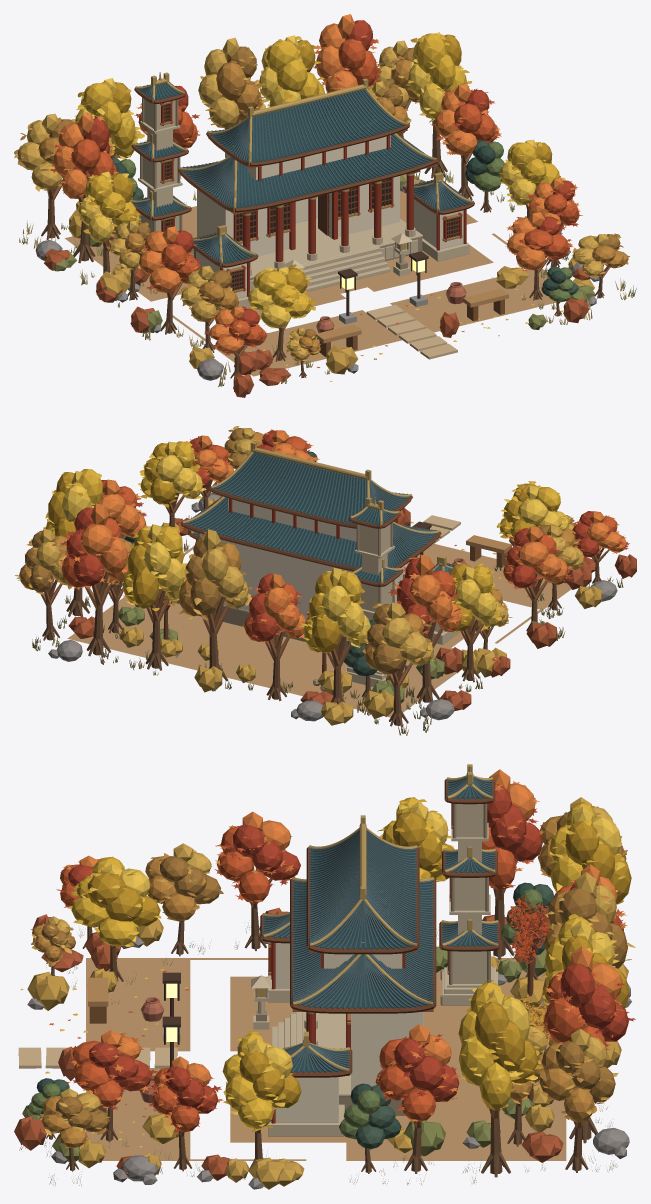
File: changan.glb
The picture shows the model from 3 angles, top to bottom: view 1: azimuth 30°, elevation 25°; view 2: azimuth 150°, elevation 25°; view 3: azimuth 270°, elevation 25°; orthographic projection. The views are drawn at different scales.
Parts seen in each view (by area): view 1: changan; view 2: changan; view 3: changan.
Boxes of the visible parts, <box> form: changan: <box>14,14,636,397</box>; changan: <box>14,426,636,735</box>; changan: <box>14,764,635,1189</box>.
Size of the model in its own units: 7.83 by 3.19 by 7.78.
